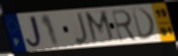1: (40, 13, 61, 48)
D: (130, 7, 157, 42)
J: (24, 14, 46, 50), (74, 11, 90, 46)
M: (83, 10, 118, 45)
R: (110, 8, 140, 43)
